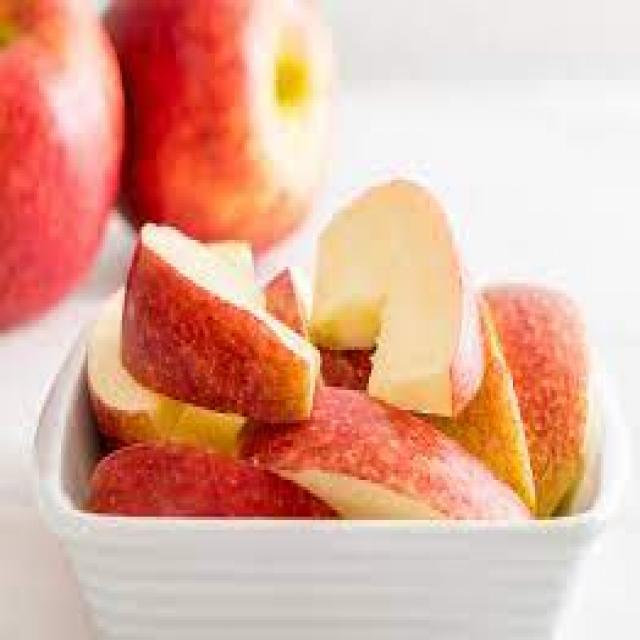Apple: (114, 1, 337, 229), (312, 178, 488, 420), (2, 0, 121, 323), (123, 222, 314, 422), (253, 399, 524, 526), (488, 283, 600, 514), (76, 436, 332, 516)
